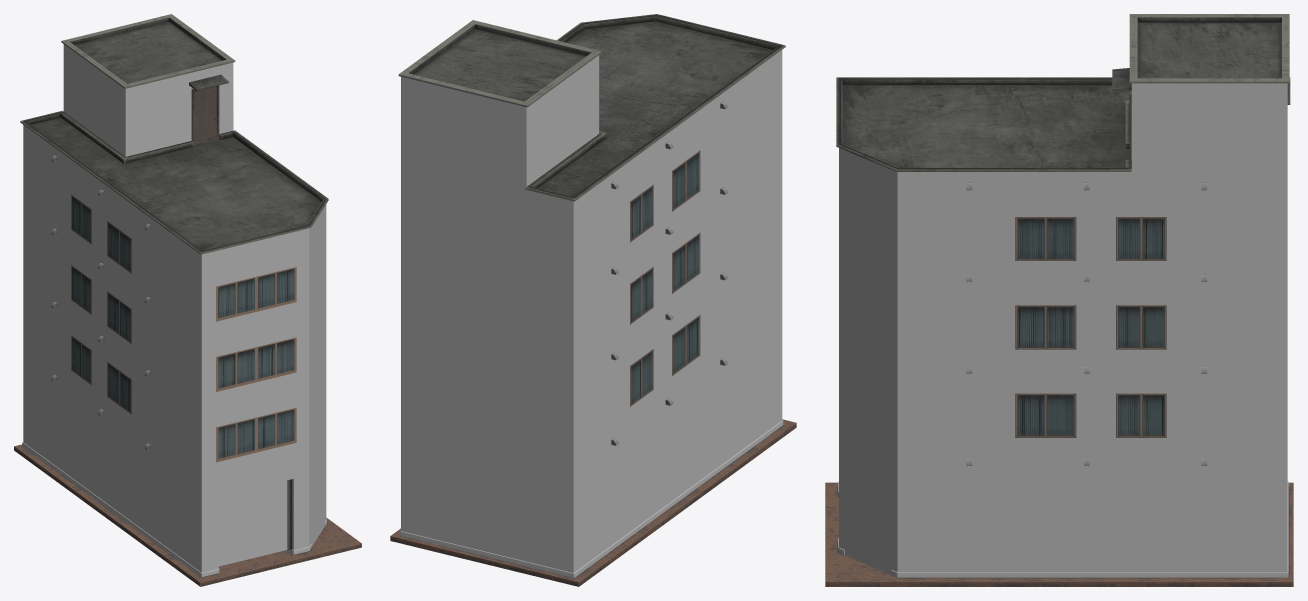
The model's file is BldH_low.fbx.
3 renders of one model, left to right at view 1: azimuth 30°, elevation 25°; view 2: azimuth 150°, elevation 25°; view 3: azimuth 270°, elevation 25°, orthographic. The views are drawn at different scales.
Parts seen in each view (by area): view 1: BldH_low; view 2: BldH_low; view 3: BldH_low.
Boxes of the visible parts, box(x1,y1,x2,y2) form: BldH_low: box(14, 14, 361, 586); BldH_low: box(390, 14, 796, 586); BldH_low: box(825, 14, 1293, 586).
Size of the model in its own units: 600 by 1420 by 1200.
